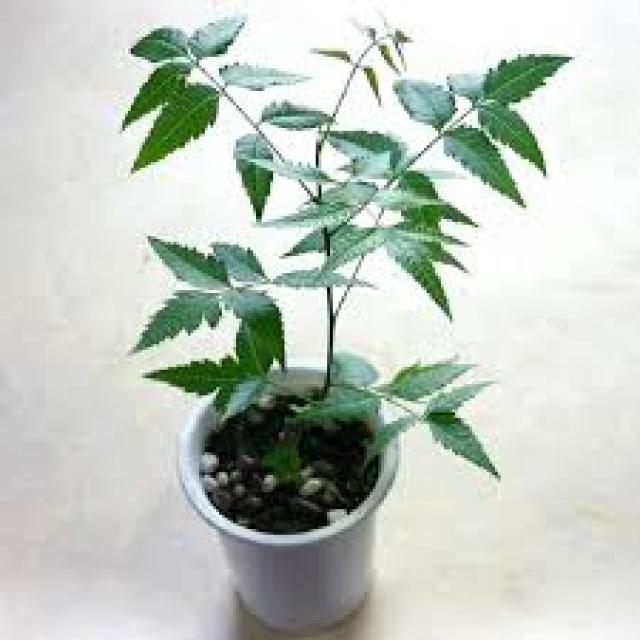Neem-Tree: (107, 13, 577, 487)
